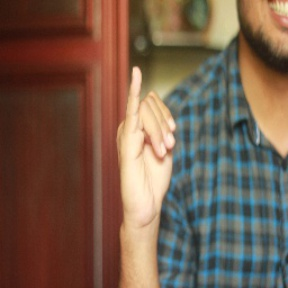I: (114, 62, 179, 227)
